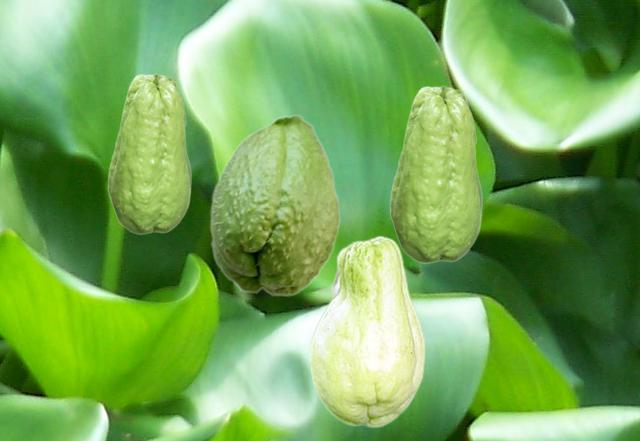sayote: (209, 113, 340, 296), (309, 235, 424, 427), (389, 85, 482, 263), (107, 73, 191, 234)
